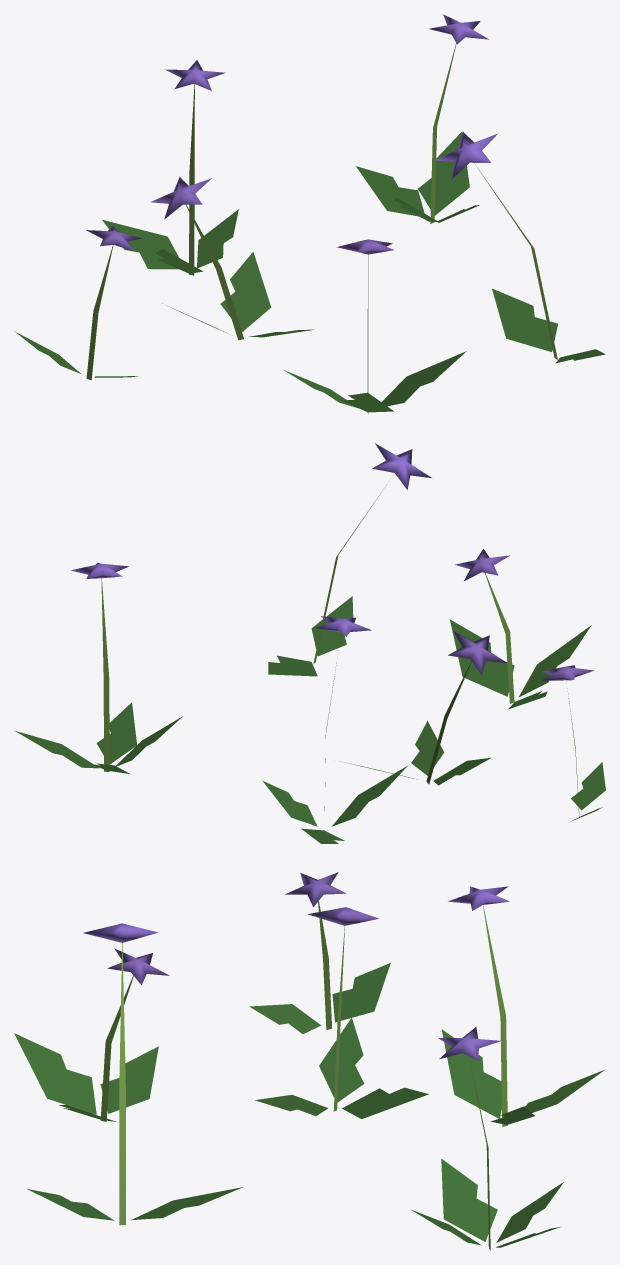
Rendered from flower_scatter_1_violet.glb.
The picture shows the model from 3 angles, top to bottom: view 1: azimuth 30°, elevation 25°; view 2: azimuth 150°, elevation 25°; view 3: azimuth 270°, elevation 25°; orthographic projection. The views are drawn at different scales.
Visible parts, largest first — view 1: flower_scatter_1_violet; view 2: flower_scatter_1_violet; view 3: flower_scatter_1_violet.
Boxes of the visible parts, bbox=[...] form: flower_scatter_1_violet: bbox=[14, 14, 605, 413]; flower_scatter_1_violet: bbox=[14, 443, 605, 843]; flower_scatter_1_violet: bbox=[14, 872, 605, 1250].
Size of the model in its own units: 0.5 by 0.22 by 0.45.
2 materials, 2 textured.
